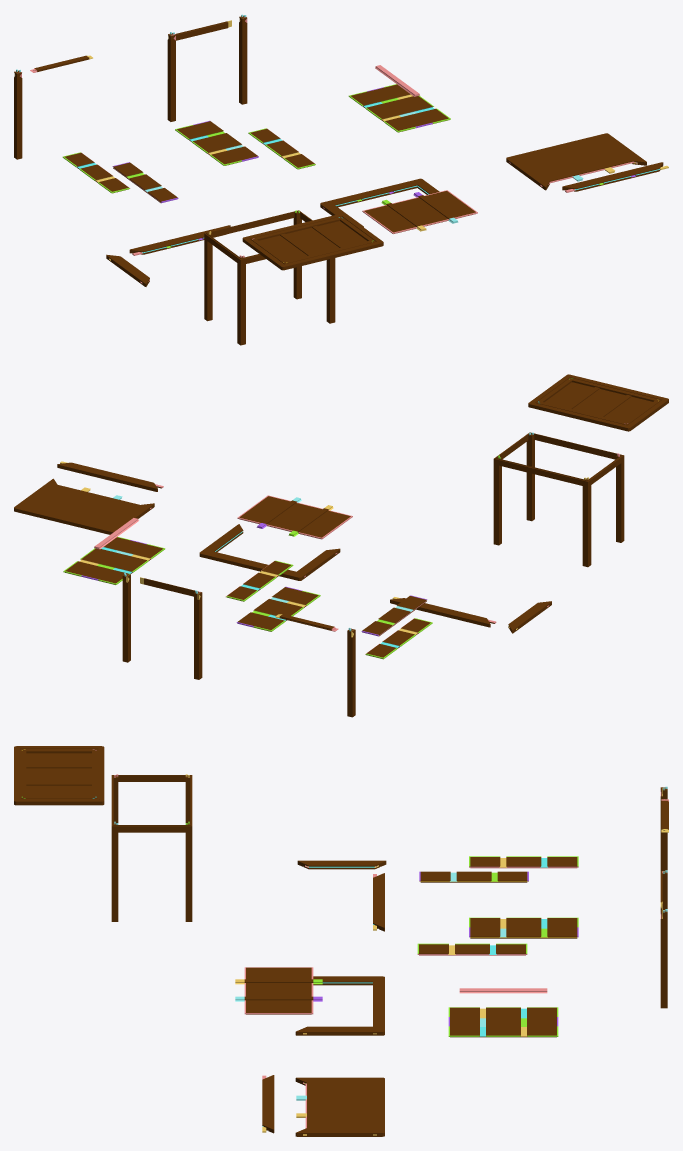
Rendered from 2-2_LevelDesign.fbx.
3 renders of one model, top to bottom at view 1: azimuth 30°, elevation 25°; view 2: azimuth 150°, elevation 25°; view 3: azimuth 270°, elevation 25°, orthographic. The views are drawn at different scales.
Visible parts, largest first — view 1: Group1, Group4, Group2, Group3, Geo_2_2_Table_C1_1, Geo_2_2_Table_C1_3, Geo_2_2_Table_C1_4, Geo_2_2_Table_C1_2, Geo_2_2_Table_C2_1, Geo_2_2_Table_D1_4, Geo_2_2_Table_C2_2, Geo_2_2_Table_C2_3 (+9 smaller); view 2: Group4, Group1, Group2, Group3, Geo_2_2_Table_C1_3, Geo_2_2_Table_C1_1, Geo_2_2_Table_C2_1, Geo_2_2_Table_C1_4, Geo_2_2_Table_D1_4, Geo_2_2_Table_C1_2, Geo_2_2_Table_D1_3, Geo_2_2_Table_C2_2 (+7 smaller); view 3: Group1, Group2, Group4, Group3, Geo_2_2_Table_C1_3, Geo_2_2_Table_C1_1, Geo_2_2_Table_C1_5, Geo_2_2_Table_C2_2, Geo_2_2_Table_C2_1, Geo_2_2_Table_C1_2, Geo_2_2_Table_C1_4, Geo_2_2_Table_C2_3 (+9 smaller).
Part boxes in pixels (bbox=[...]): Group1: bbox=[242, 213, 383, 270]; Group4: bbox=[204, 210, 335, 345]; Group2: bbox=[362, 190, 477, 233]; Group3: bbox=[520, 139, 634, 183]; Geo_2_2_Table_C1_1: bbox=[62, 152, 130, 193]; Geo_2_2_Table_C1_3: bbox=[248, 128, 315, 169]; Geo_2_2_Table_C1_4: bbox=[348, 91, 415, 132]; Geo_2_2_Table_C1_2: bbox=[175, 125, 241, 165]; Geo_2_2_Table_C2_1: bbox=[112, 162, 178, 203]; Geo_2_2_Table_D1_4: bbox=[562, 162, 668, 192]; Geo_2_2_Table_C2_2: bbox=[193, 120, 258, 161]; Geo_2_2_Table_C2_3: bbox=[367, 87, 432, 128]; Group4: bbox=[493, 432, 624, 567]; Group1: bbox=[528, 374, 668, 431]; Group2: bbox=[237, 495, 352, 539]; Group3: bbox=[28, 484, 139, 526]; Geo_2_2_Table_C1_3: bbox=[225, 560, 293, 601]; Geo_2_2_Table_C1_1: bbox=[365, 618, 432, 659]; Geo_2_2_Table_C2_1: bbox=[361, 595, 427, 636]; Geo_2_2_Table_C1_4: bbox=[98, 544, 165, 584]; Geo_2_2_Table_D1_4: bbox=[57, 461, 163, 491]; Geo_2_2_Table_C1_2: bbox=[253, 591, 320, 631]; Geo_2_2_Table_D1_3: bbox=[14, 506, 113, 534]; Geo_2_2_Table_C2_2: bbox=[236, 586, 302, 627]; Group1: bbox=[14, 746, 104, 805]; Group2: bbox=[235, 967, 322, 1014]; Group4: bbox=[111, 774, 192, 921]; Group3: bbox=[296, 1082, 372, 1128]; Geo_2_2_Table_C1_3: bbox=[417, 943, 527, 955]; Geo_2_2_Table_C1_1: bbox=[469, 856, 578, 868]; Geo_2_2_Table_C1_5: bbox=[448, 1026, 558, 1037]; Geo_2_2_Table_C2_2: bbox=[469, 927, 578, 938]; Geo_2_2_Table_C2_1: bbox=[419, 871, 528, 882]; Geo_2_2_Table_C1_2: bbox=[469, 917, 578, 928]; Geo_2_2_Table_C1_4: bbox=[448, 1007, 558, 1018]; Geo_2_2_Table_C2_3: bbox=[448, 1017, 558, 1026].
Size of the model in its own units: 4773 by 994 by 4785.
